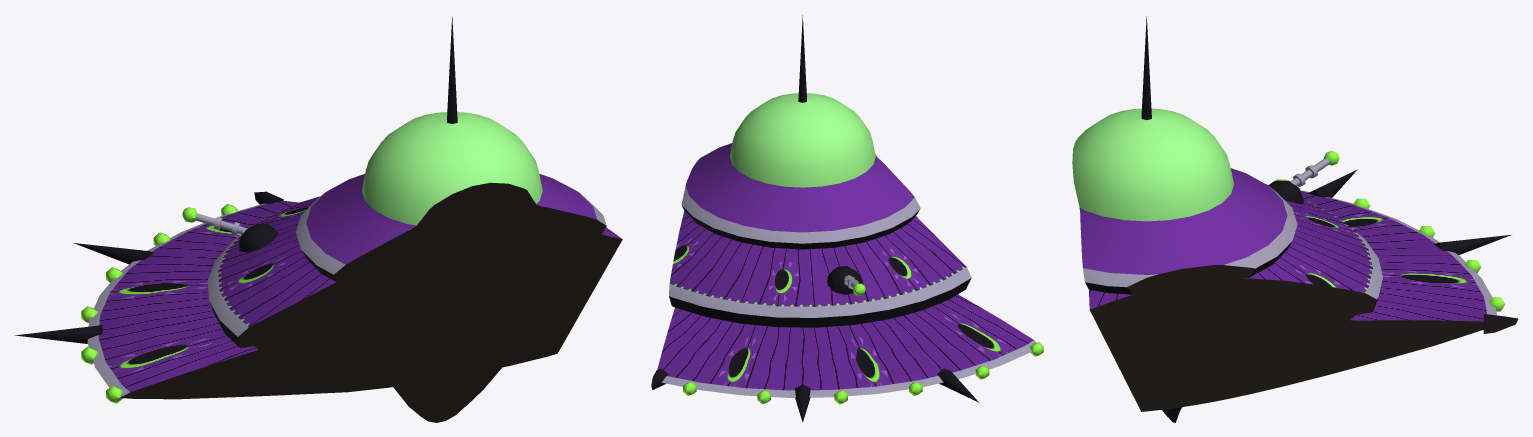
Rendered from dreadnought_debris2.obj.
3 views of the same model, side by side, from view 1: azimuth 30°, elevation 25°; view 2: azimuth 150°, elevation 25°; view 3: azimuth 270°, elevation 25° (orthographic). The views are drawn at different scales.
Visible parts, largest first — view 1: tier1, tier2, tier3, crown, lens_mount, rim_spike, rim_light, turret, mast; view 2: tier1, tier2, tier3, crown, rim_spike, rim_light, turret, mast; view 3: tier1, tier2, tier3, crown, rim_spike, mast, rim_light, turret.
Boxes of the visible parts, x1,y1,x2,y2 form: tier1: (87,200,596,399); tier2: (207,196,622,348); tier3: (296,174,606,281); crown: (361,112,542,226); lens_mount: (392,364,504,422); rim_spike: (14,191,283,343); rim_light: (81,204,237,403); turret: (239,223,278,252); mast: (447,16,457,123); tier1: (657,294,1036,397); tier2: (669,211,971,327); tier3: (681,143,920,249); crown: (729,93,875,187); rim_spike: (651,368,979,422); rim_light: (683,342,1043,404); turret: (827,266,861,294); mast: (798,15,806,102); tier1: (1109,184,1498,411); tier2: (1089,200,1382,350); tier3: (1079,168,1297,294); crown: (1072,108,1233,221); rim_spike: (1307,169,1518,333); mast: (1141,16,1151,120); rim_light: (1276,179,1504,311); turret: (1268,180,1303,203).
Size of the model in its own units: 51.98 by 44.47 by 44.36.
Materials: 7 (1 with a texture image).
